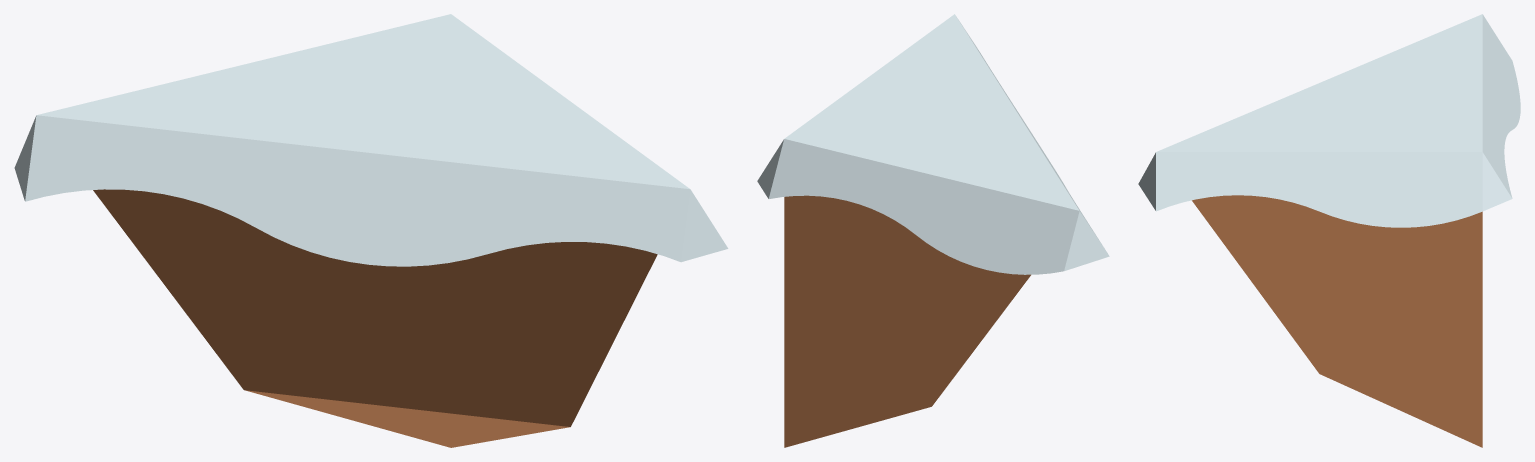
File: blockSnowCliffCorner.fbx
3 renders of one model, left to right at view 1: azimuth 30°, elevation 25°; view 2: azimuth 150°, elevation 25°; view 3: azimuth 270°, elevation 25°, orthographic. The views are drawn at different scales.
Parts seen in each view (by area): view 1: blockSnowCliffCorner; view 2: blockSnowCliffCorner; view 3: blockSnowCliffCorner.
Boxes of the visible parts, box(x1,y1,x2,y2) form: blockSnowCliffCorner: box(14, 14, 728, 447); blockSnowCliffCorner: box(757, 14, 1109, 447); blockSnowCliffCorner: box(1138, 14, 1520, 447).
Size of the model in its own units: 11.81 by 10 by 11.71.
